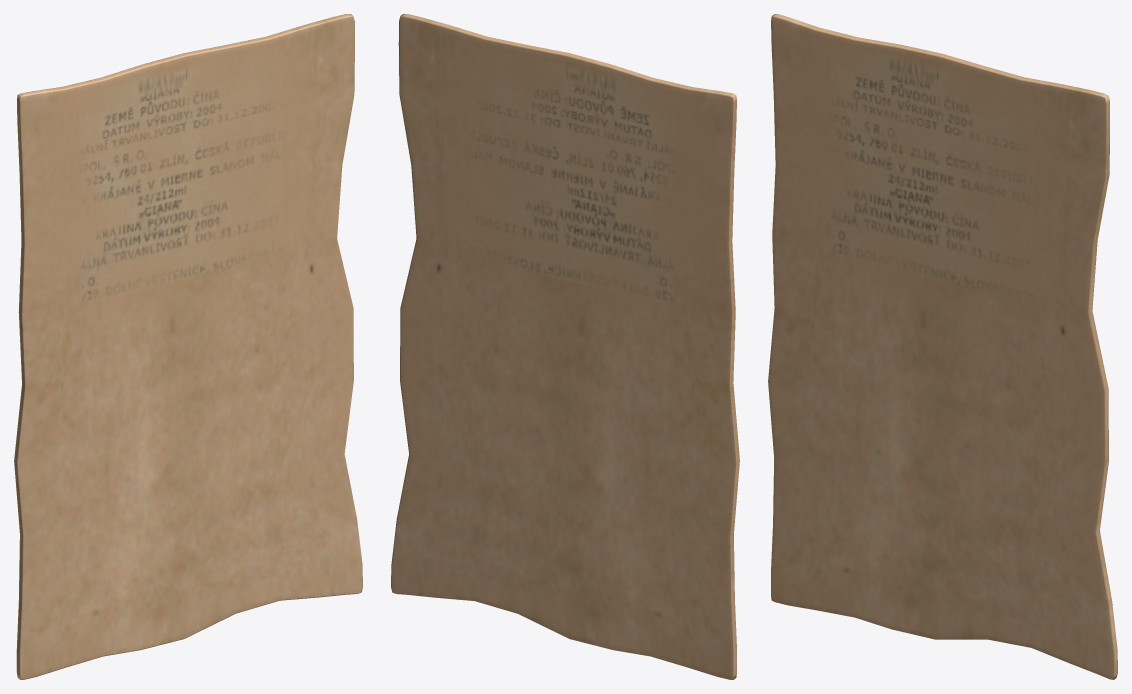
Rendered from cartonA.fbx.
3 renders of one model, left to right at view 1: azimuth 30°, elevation 25°; view 2: azimuth 150°, elevation 25°; view 3: azimuth 330°, elevation 25°, orthographic.
Parts seen in each view (by area): view 1: cartonA; view 2: cartonA; view 3: cartonA.
Boxes of the visible parts, box(x1,y1,x2,y2) form: cartonA: box(14, 14, 362, 679); cartonA: box(391, 14, 739, 679); cartonA: box(768, 14, 1117, 679).
Bounding box in the file's own units: 180 × 291 × 3.99.
